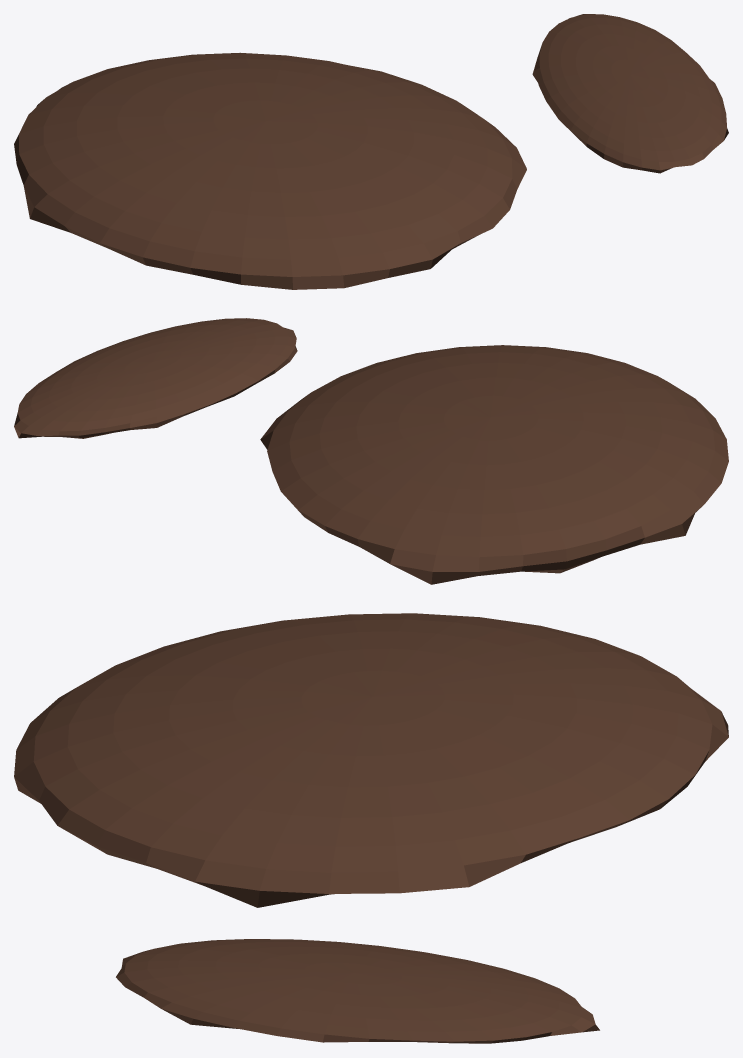
The model's file is leftovers.fbx.
3 renders of one model, top to bottom at view 1: azimuth 30°, elevation 25°; view 2: azimuth 150°, elevation 25°; view 3: azimuth 270°, elevation 25°, orthographic. The views are drawn at different scales.
Visible parts, largest first — view 1: Leftover_piece_1, Leftover_piece_2; view 2: Leftover_piece_1, Leftover_piece_2; view 3: Leftover_piece_1, Leftover_piece_2.
Boxes of the visible parts, x1,y1,x2,y2 form: Leftover_piece_1: (14, 52, 526, 289); Leftover_piece_2: (532, 14, 728, 173); Leftover_piece_1: (260, 345, 728, 584); Leftover_piece_2: (14, 318, 297, 438); Leftover_piece_1: (14, 613, 728, 907); Leftover_piece_2: (116, 939, 599, 1043).
Bounding box in the file's own units: 329 × 31.72 × 236.
